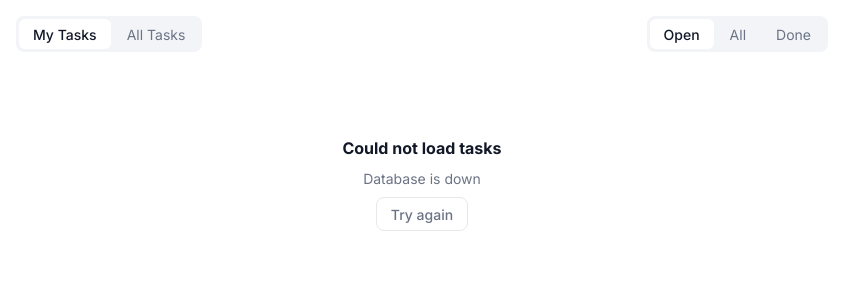
Tasks page › offers a retry when loading fails
Check: the text "Database is down" is shown, box left=363, top=168, right=481, bottom=189
What coordinates should you click on to do the following:
click the button "Try again"
I would click on:
 (422, 214)
Its box is left=376, top=197, right=468, bottom=231.
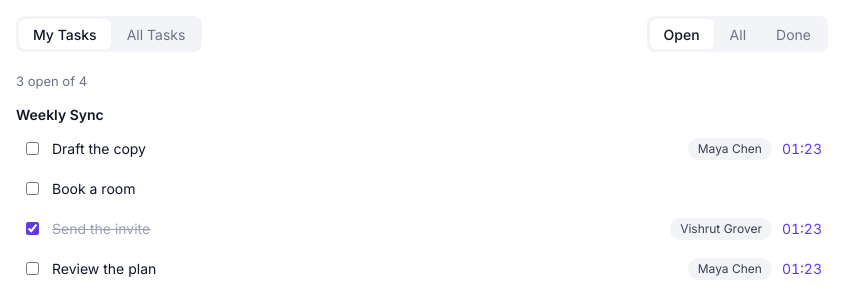
Check: the text "Draft the copy" is shown, box left=52, top=140, right=146, bottom=157
